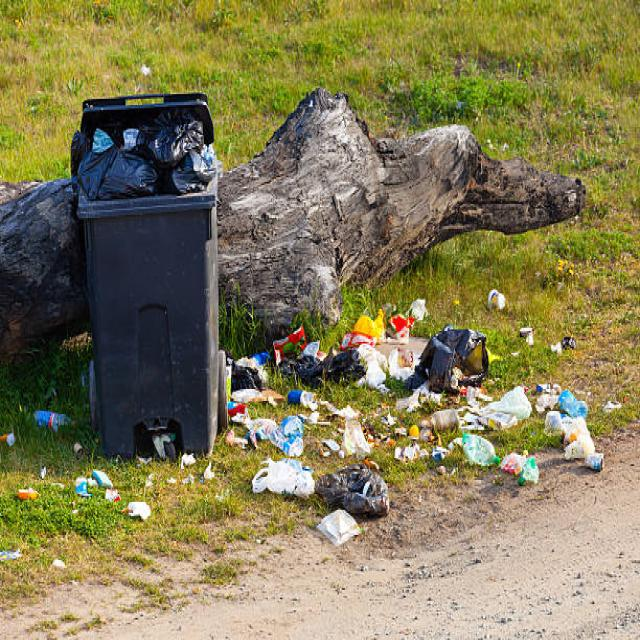plastic: (238, 314, 608, 511)
trash: (65, 126, 225, 188)
